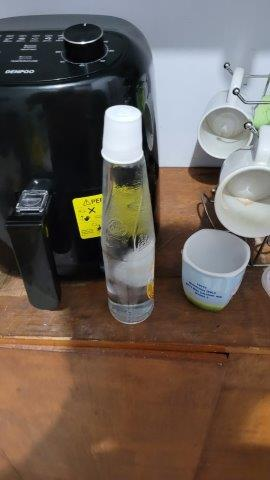botolkaca: (98, 105, 159, 326)
